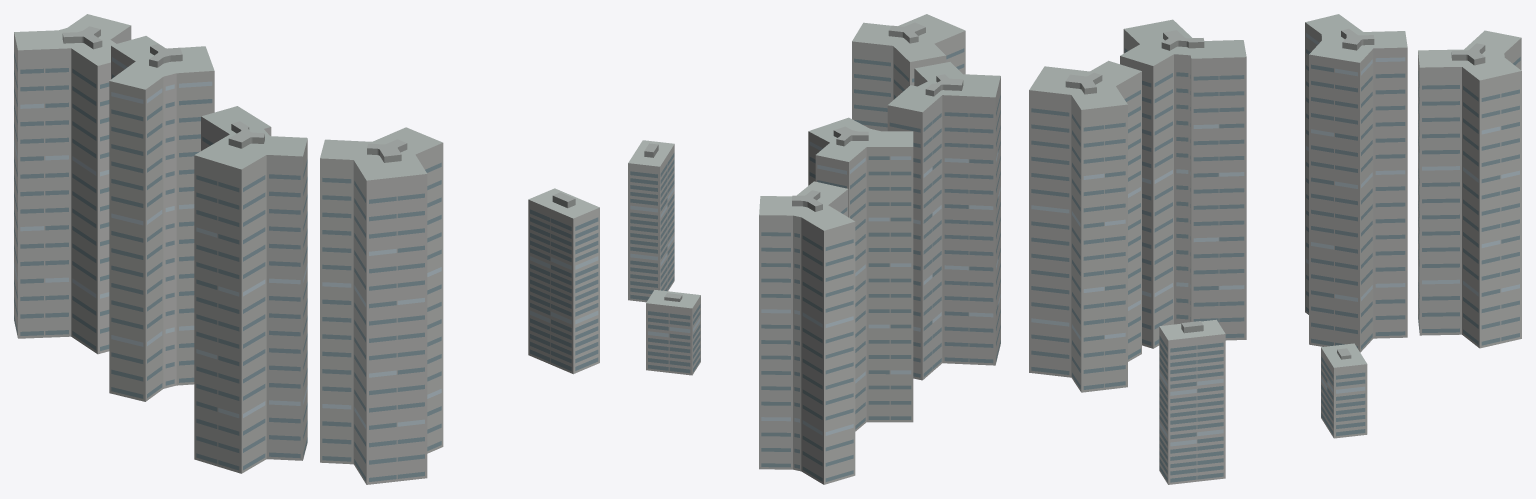
The model's file is apt-a13613011.glb.
The picture shows the model from 3 angles, left to right: view 1: azimuth 30°, elevation 25°; view 2: azimuth 150°, elevation 25°; view 3: azimuth 270°, elevation 25°; orthographic projection. The views are drawn at different scales.
Visible parts, largest first — view 1: apt-a13613011; view 2: apt-a13613011; view 3: apt-a13613011.
Part boxes in pixels (x1=…): apt-a13613011: x1=14, y1=14, x2=599, y2=484; apt-a13613011: x1=628, y1=14, x2=1000, y2=484; apt-a13613011: x1=1029, y1=14, x2=1521, y2=484.
Size of the model in its own units: 162 by 120 by 181.
